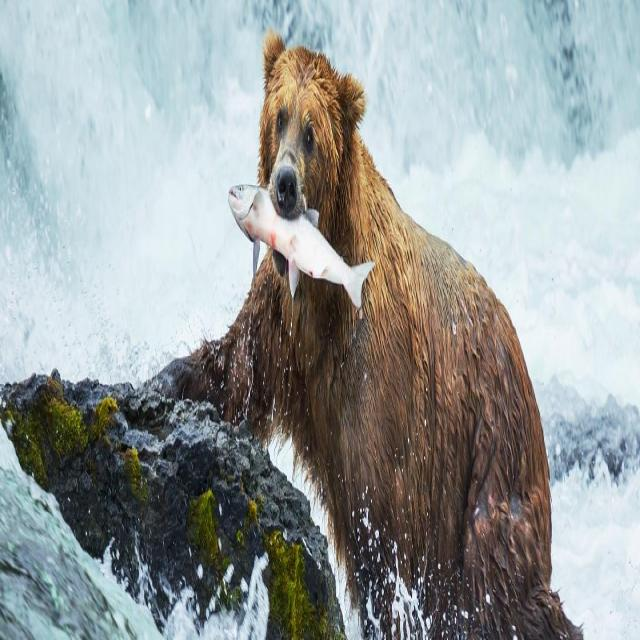Bear: (133, 30, 583, 640)
